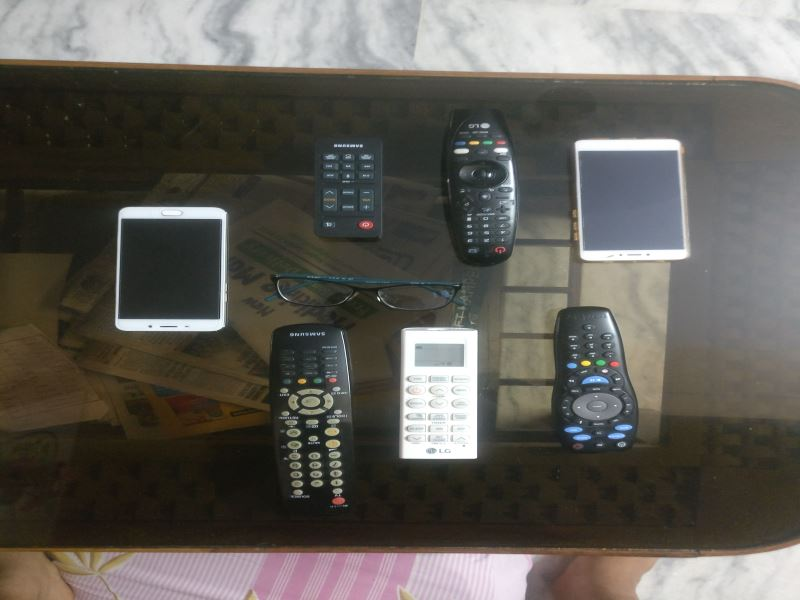ac remote: (401, 328, 479, 462)
tv remote: (267, 323, 360, 518), (550, 306, 642, 459), (443, 109, 519, 265), (313, 134, 383, 237)
